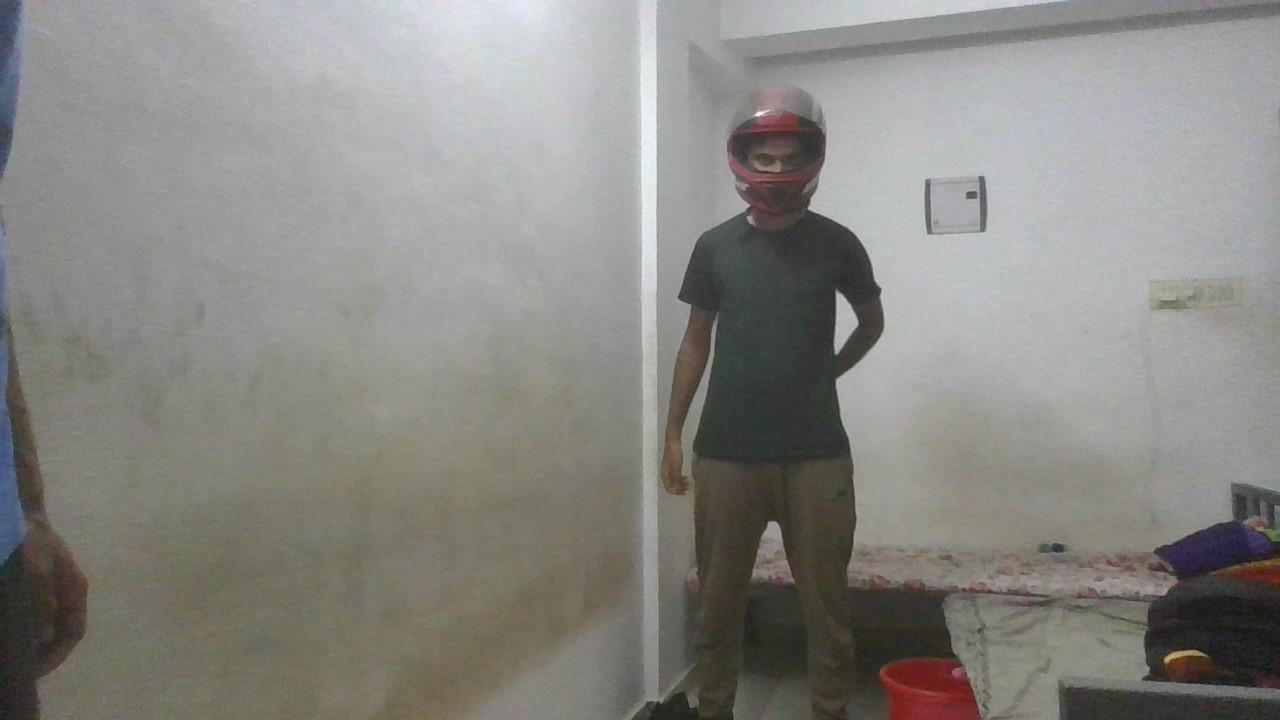helmet: (725, 83, 828, 217)
